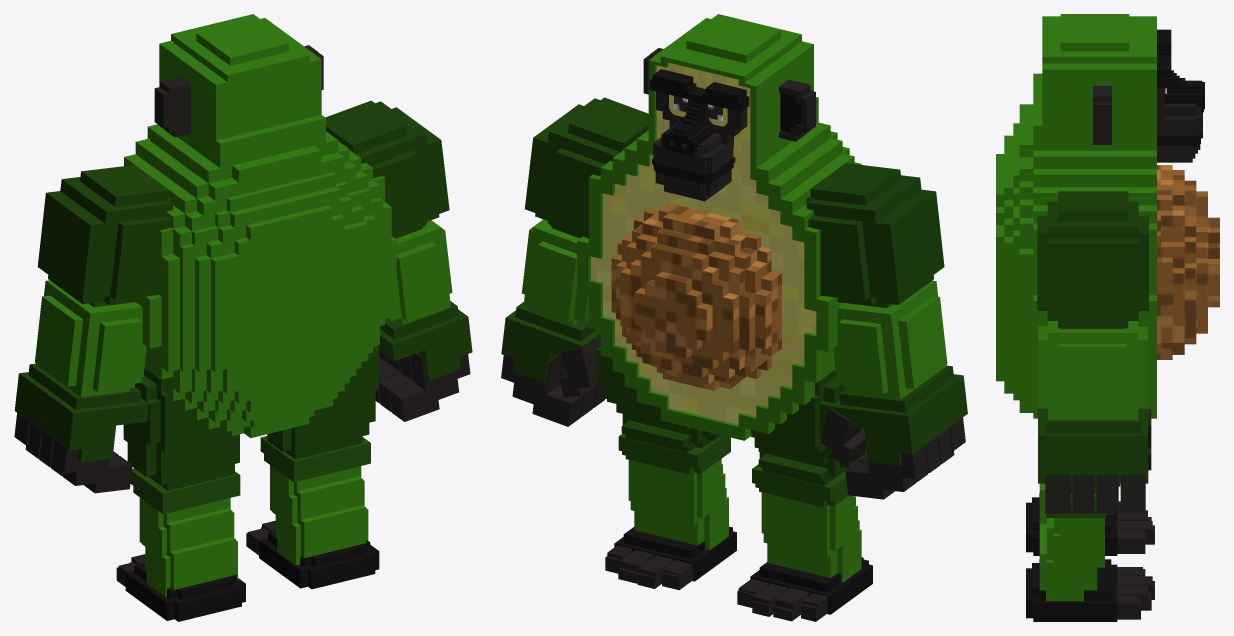
The picture shows the model from 3 angles, left to right: view 1: azimuth 30°, elevation 25°; view 2: azimuth 150°, elevation 25°; view 3: azimuth 270°, elevation 25°; orthographic projection.
Visible parts, largest first — view 1: Cube0141, Cube0011, Cube0021, Cube0071, Cube0111; view 2: Cube0141, Cube0011, Plane0021, Cube0021, Cube0071, Cube0111; view 3: Cube0141, Cube0011, Cube0021, Plane0021, Cube0071, Cube0111.
Boxes of the visible parts, <box> form: Cube0141: <box>35,14,452,596</box>; Cube0011: <box>14,100,472,490</box>; Cube0021: <box>14,45,470,586</box>; Cube0071: <box>125,530,379,621</box>; Cube0111: <box>89,225,424,514</box>; Cube0141: <box>522,14,947,582</box>; Cube0011: <box>501,97,967,485</box>; Plane0021: <box>591,63,816,424</box>; Cube0021: <box>501,48,965,621</box>; Cube0071: <box>614,69,872,614</box>; Cube0111: <box>550,224,892,507</box>; Cube0141: <box>996,14,1156,601</box>; Cube0011: <box>1037,191,1148,493</box>; Cube0021: <box>1045,86,1201,619</box>; Plane0021: <box>1157,88,1219,359</box>; Cube0071: <box>1026,29,1204,621</box>; Cube0111: <box>1046,328,1124,517</box>.
Size of the model in its own units: 5.91 by 7.43 by 2.79.
Materials: 6 (1 with a texture image).
